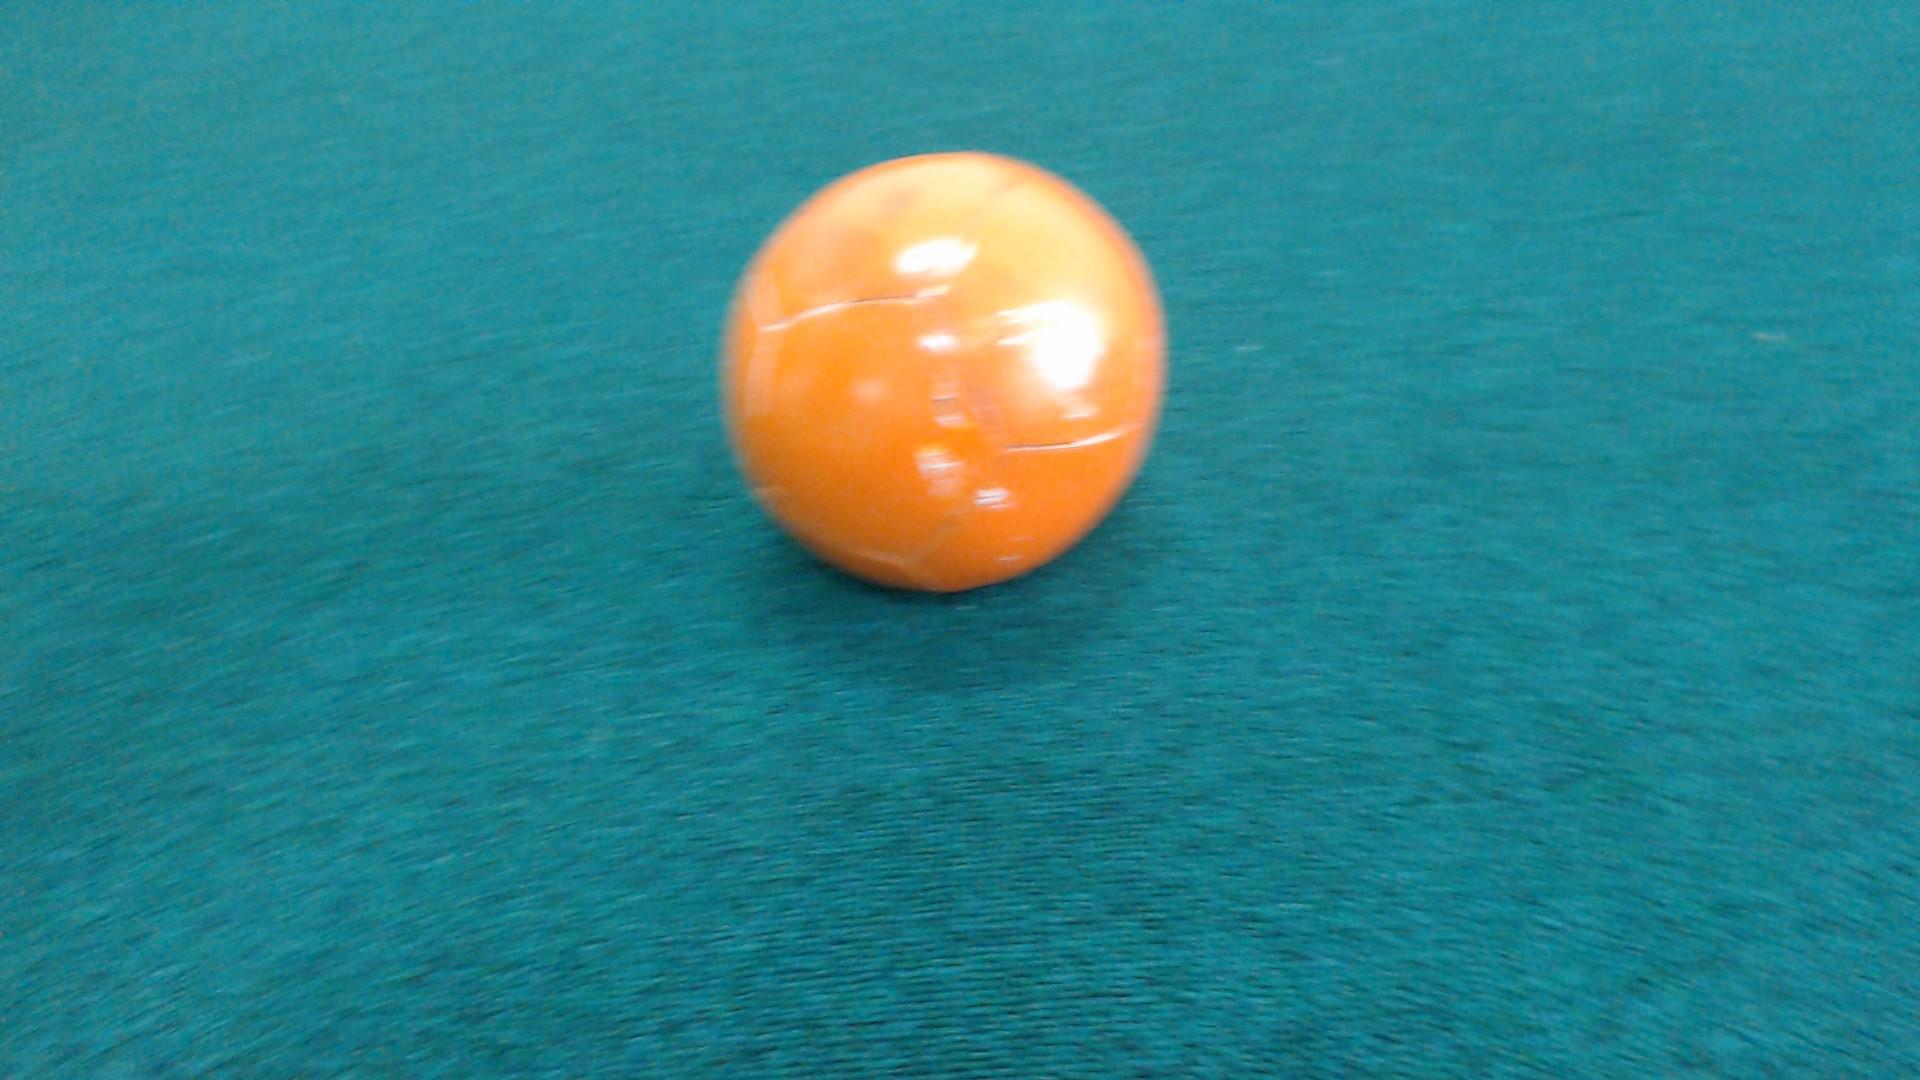bola: (653, 123, 1196, 633)
